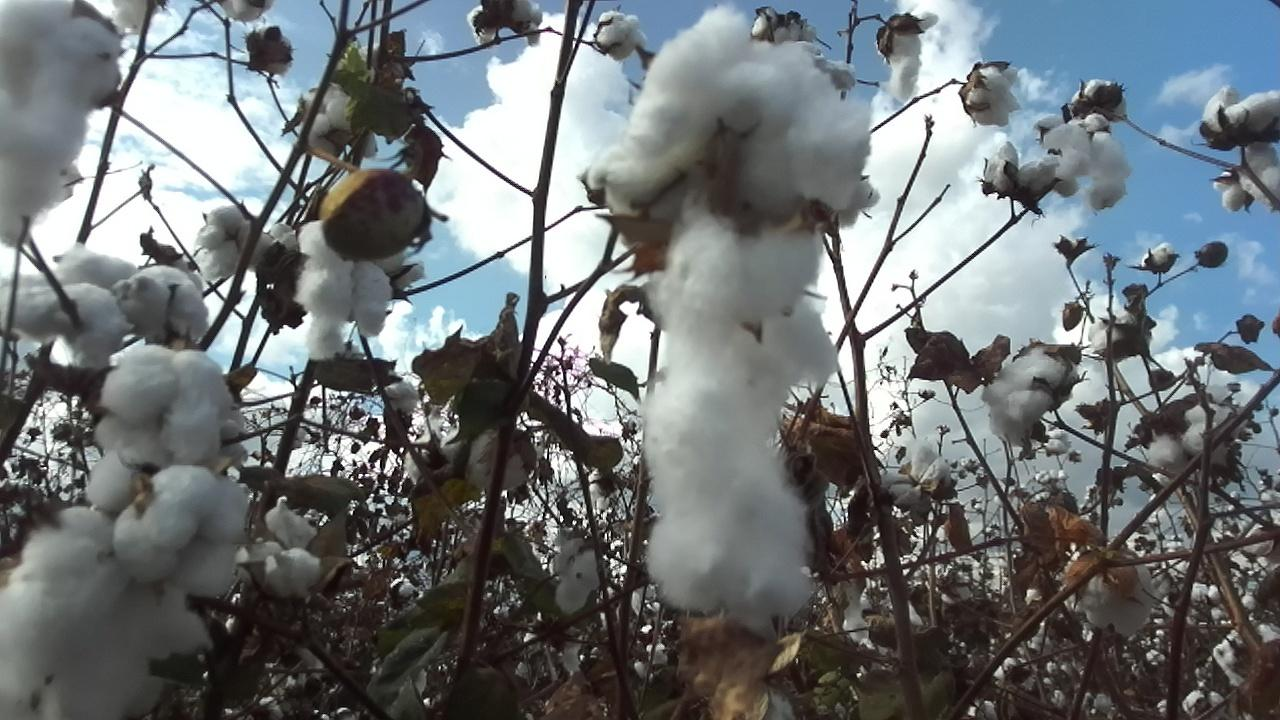cotton_ready: (591, 0, 875, 626), (0, 507, 214, 720), (0, 0, 125, 245), (112, 467, 254, 595), (0, 247, 143, 370), (96, 344, 239, 466), (299, 222, 405, 364), (233, 498, 330, 602), (1034, 114, 1132, 205), (984, 350, 1072, 449), (116, 266, 212, 349), (1144, 397, 1237, 478), (1078, 562, 1159, 637), (197, 205, 271, 284), (982, 139, 1060, 213), (301, 85, 380, 157), (549, 534, 605, 615), (1204, 84, 1280, 142), (884, 444, 957, 503), (1092, 309, 1144, 358)
